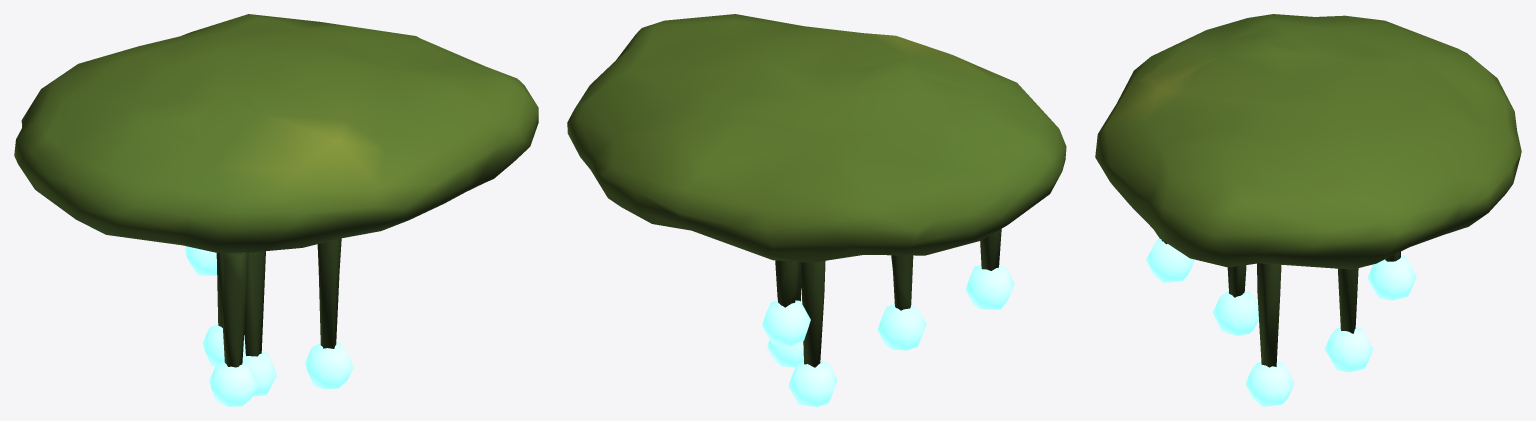
Rendered from mire_moss_ledge_lod1.glb.
3 renders of one model, left to right at view 1: azimuth 30°, elevation 25°; view 2: azimuth 150°, elevation 25°; view 3: azimuth 270°, elevation 25°, orthographic. The views are drawn at different scales.
Parts seen in each view (by area): view 1: mire_moss_ledge.001; view 2: mire_moss_ledge.001; view 3: mire_moss_ledge.001.
Part boxes in pixels (x1=…): mire_moss_ledge.001: x1=14, y1=14, x2=538, y2=406; mire_moss_ledge.001: x1=567, y1=14, x2=1066, y2=406; mire_moss_ledge.001: x1=1095, y1=14, x2=1521, y2=406.
Bounding box in the file's own units: 2.63 × 1.82 × 2.25.
